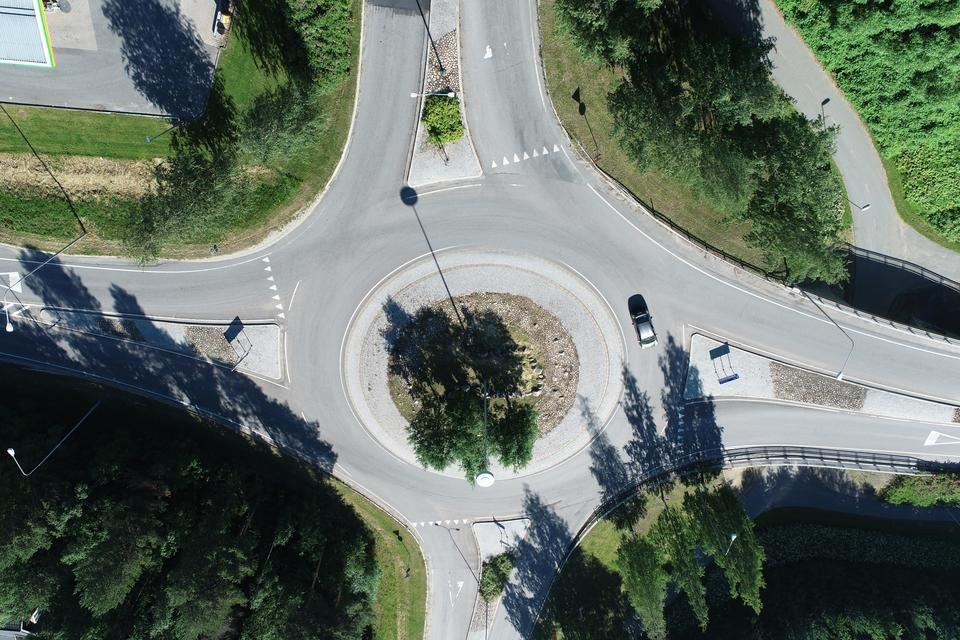roundabout: (212, 122, 722, 574)
